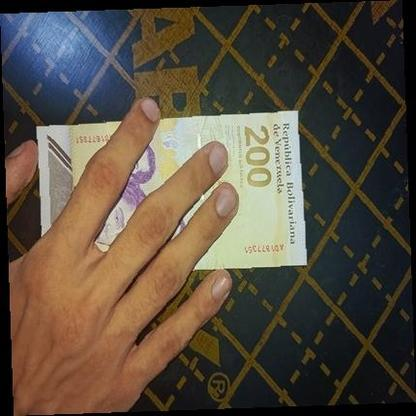vef_front: (36, 109, 308, 271)
